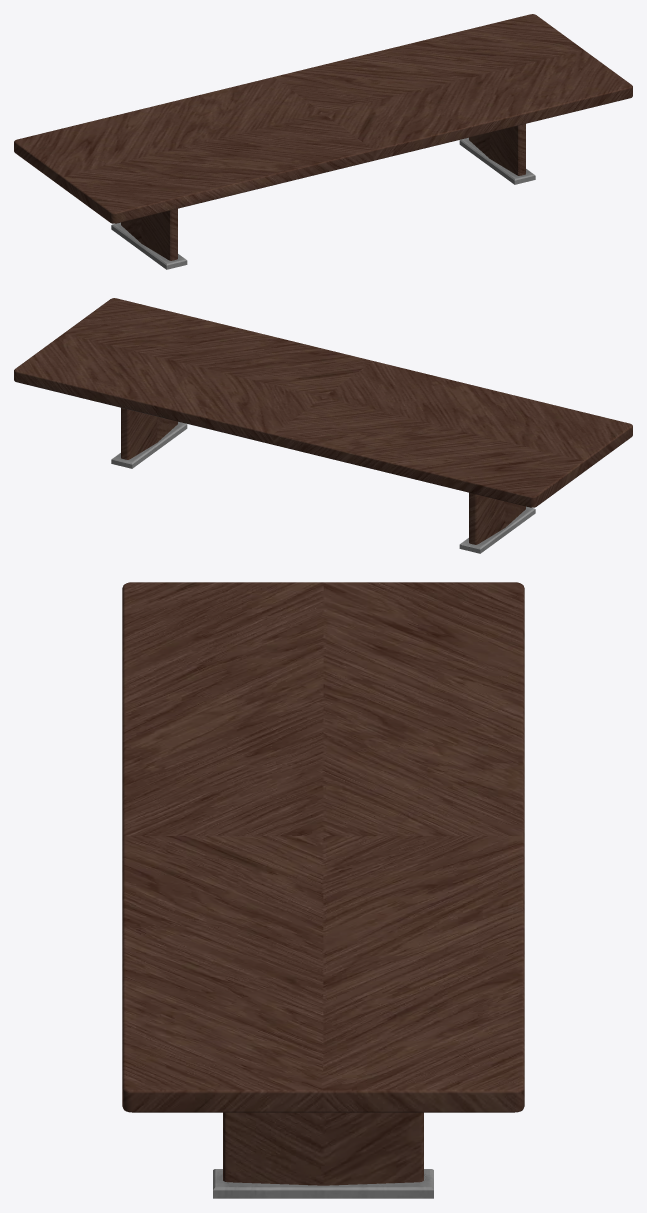
Rendered from conference_table_-_rectangular_6m.glb.
3 renders of one model, top to bottom at view 1: azimuth 30°, elevation 25°; view 2: azimuth 150°, elevation 25°; view 3: azimuth 270°, elevation 25°, orthographic. The views are drawn at different scales.
Visible parts, largest first — view 1: ConferenceTable1_lambert1_0; view 2: ConferenceTable1_lambert1_0; view 3: ConferenceTable1_lambert1_0.
Boxes of the visible parts, x1=… form: ConferenceTable1_lambert1_0: x1=14, y1=14, x2=632, y2=269; ConferenceTable1_lambert1_0: x1=14, y1=298, x2=632, y2=553; ConferenceTable1_lambert1_0: x1=122, y1=582, x2=524, y2=1198.
Size of the model in its own units: 6 by 1 by 2.
1 material, 1 textured.
